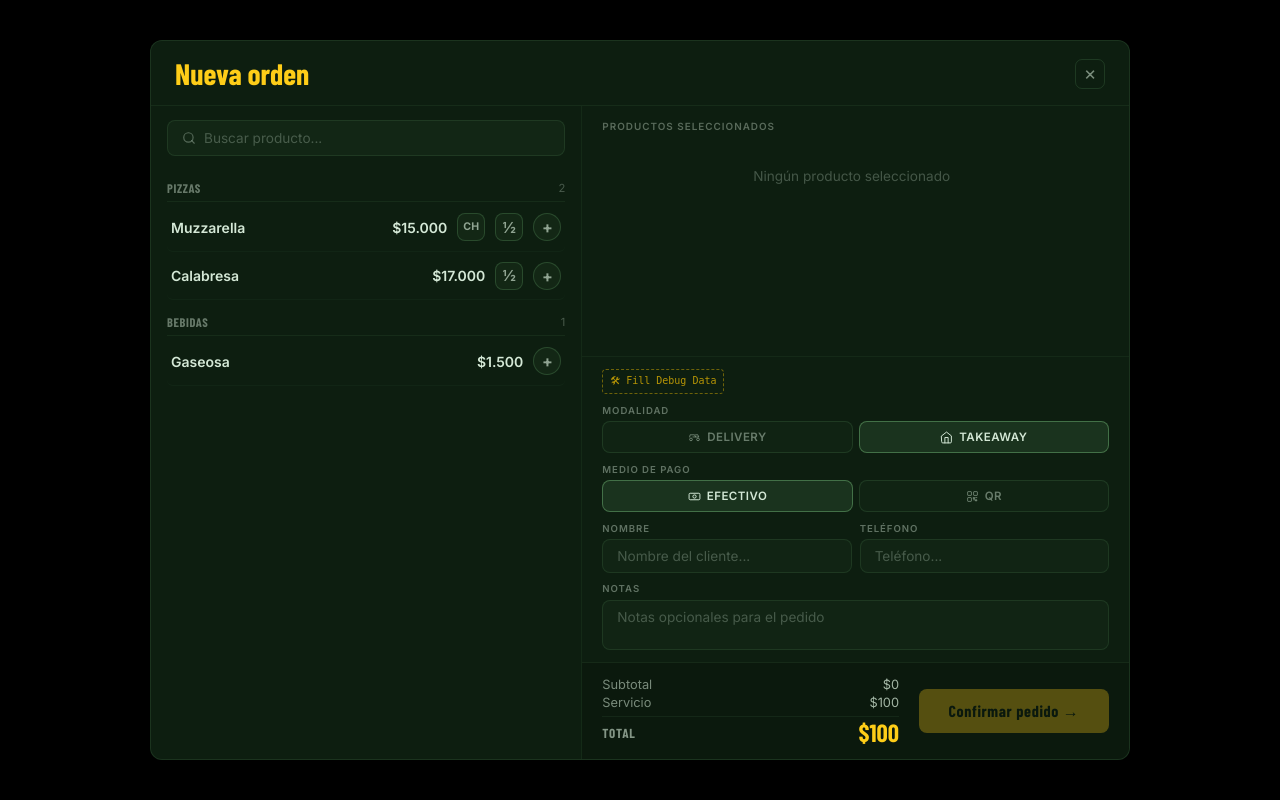
Test: NewOrderModal · tamaño chica (US-SIZE-F-03) › marcar chica muestra el precio del tamaño en la fila
Expected: the text "Muzzarella" is shown, [171,219,245,236]
Expected: the text "$15.000" is shown, [391,219,447,236]
Click the button "CH" at (471, 227), box [457,213,485,241]
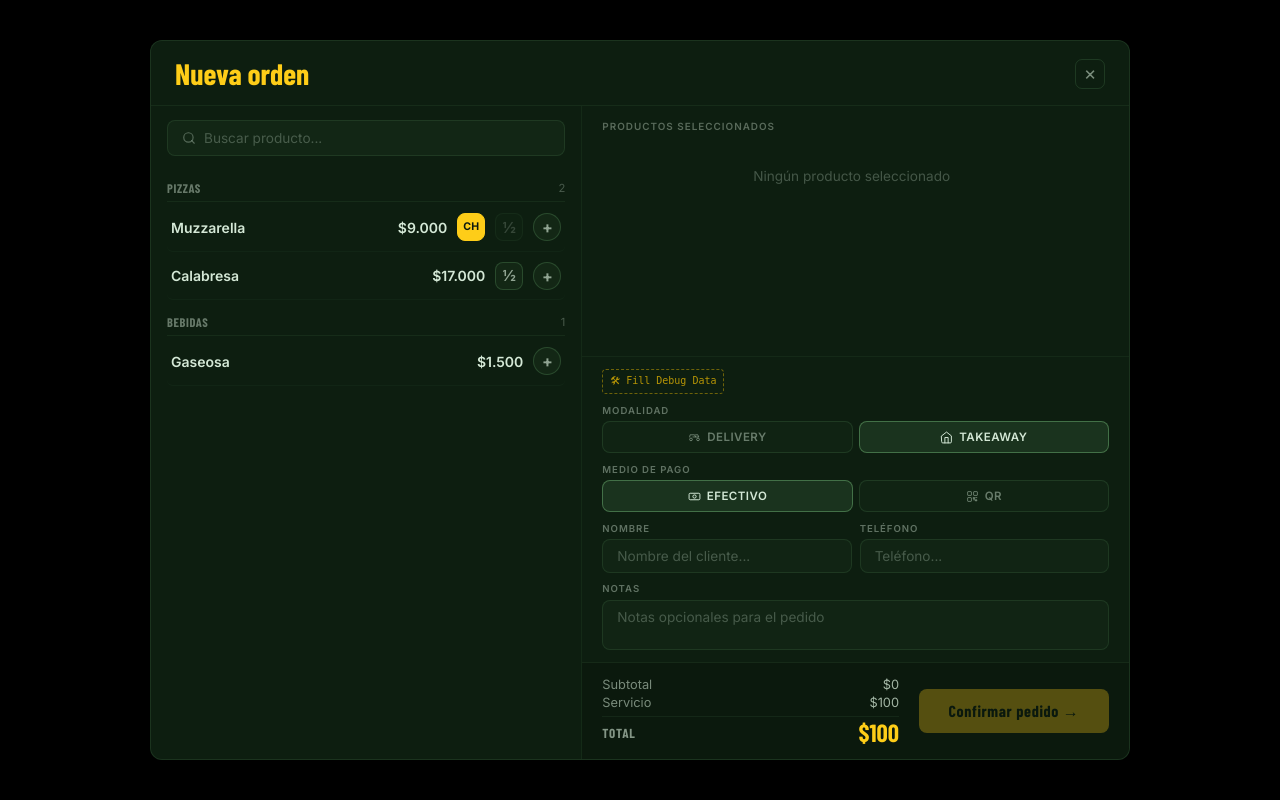
Expected: the text "$9.000" is shown, [391,219,447,236]
